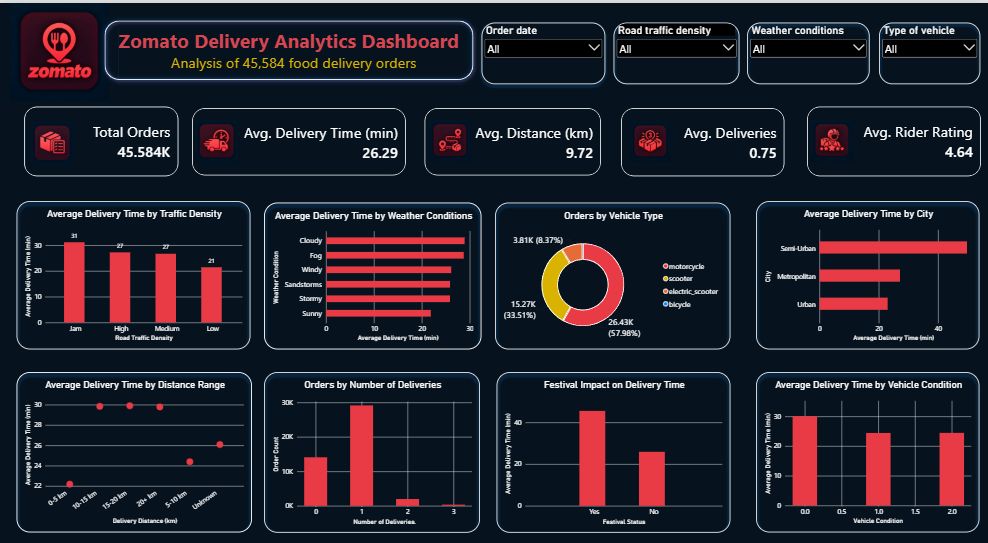

The page's visual inventory and layout, read from the dashboard file:
{"tool":"powerbi","page":{"name":"Page 1","canvas":[2200,1200],"ordinal":0},"visuals":[{"type":"textbox","box":[262.5,52.5,770,126.7],"z":0},{"type":"cardVisual","title":"Total Orders","fields":{"Data":["CountNonNull(public zomato_delivery.id)"]},"box":[53.3,230,343.3,155],"z":1000},{"type":"cardVisual","fields":{"Data":["Avg(public zomato_delivery.time_taken_min)"]},"box":[425,233.3,475,150],"z":2000},{"type":"cardVisual","fields":{"Data":["Avg(public zomato_delivery.distance_km_clean)"]},"box":[941.7,233.3,392,150],"z":3000},{"type":"cardVisual","fields":{"Data":["Avg(public zomato_delivery.multiple_deliveries)"]},"box":[1380,231.7,363.3,151.7],"z":4000},{"type":"cardVisual","fields":{"Data":["Avg(public zomato_delivery.delivery_person_ratings)"]},"box":[1791.7,230,386.7,155],"z":5000},{"type":"clusteredColumnChart","title":"Average Delivery Time by Traffic Density","fields":{"Category":["public zomato_delivery.road_traffic_density"],"Y":["Avg(public zomato_delivery.time_taken_min)"]},"box":[36.7,440,520,330],"z":6000},{"type":"clusteredBarChart","title":"Average Delivery Time by Weather Conditions","fields":{"Category":["public zomato_delivery.weather_conditions"],"Y":["Avg(public zomato_delivery.time_taken_min)"]},"box":[586.7,443.3,483.3,326.7],"z":7000},{"type":"donutChart","title":"Orders by Vehicle Type","fields":{"Category":["public zomato_delivery.type_of_vehicle"],"Y":["CountNonNull(public zomato_delivery.id)"]},"box":[1100,443.3,523.3,326.7],"z":8000},{"type":"scatterChart","title":"Average Delivery Time by Distance Range","fields":{"X":["public zomato_delivery.Distance Band"],"Y":["Avg(public zomato_delivery.time_taken_min)"]},"box":[36.7,820,523.3,356.7],"z":9000},{"type":"clusteredColumnChart","title":"Orders by Number of Deliveries","fields":{"Category":["public zomato_delivery.multiple_deliveries"],"Y":["CountNonNull(public zomato_delivery.id)"]},"box":[587.5,820,480,357.5],"z":10000},{"type":"clusteredColumnChart","title":"Average Delivery Time by Vehicle Condition","fields":{"Category":["public zomato_delivery.vehicle_condition"],"Y":["Avg(public zomato_delivery.time_taken_min)"]},"box":[1680,820,496.7,356.7],"z":11000},{"type":"clusteredBarChart","title":"Average Delivery Time by City","fields":{"Category":["public zomato_delivery.city"],"Y":["Avg(public zomato_delivery.time_taken_min)"]},"box":[1680,440,496.7,330],"z":12000},{"type":"slicer","fields":{"Values":["public zomato_delivery.order_date"]},"box":[1070,42.5,275,137.5],"z":13000},{"type":"slicer","fields":{"Values":["public zomato_delivery.road_traffic_density"]},"box":[1362.5,42.5,280,137.5],"z":14000},{"type":"slicer","fields":{"Values":["public zomato_delivery.weather_conditions"]},"box":[1660,42.5,272.5,137.5],"z":15000},{"type":"slicer","fields":{"Values":["public zomato_delivery.type_of_vehicle"]},"box":[1952.5,42.5,225,137.5],"z":16000},{"type":"clusteredColumnChart","title":"Festival Impact on Delivery Time","fields":{"Category":["public zomato_delivery.festival"],"Y":["Avg(public zomato_delivery.time_taken_min)"]},"box":[1102.5,820,520,357.5],"z":20001},{"type":"image","box":[53.3,263.3,125.7,97.1],"z":20010},{"type":"image","box":[433.3,260,96.7,96.7],"z":20011},{"type":"image","box":[940,258.3,120,93.3],"z":20015},{"type":"image","box":[1386.7,261.7,116.7,90],"z":20016},{"type":"image","box":[1796.7,260,103.3,93.3],"z":20018},{"type":"image","box":[0,0,263.3,218.3],"z":20024},{"type":"shape","title":"Zomato rounded rectangle","box":[222.5,30,837.5,150],"z":20025}]}

Visuals, with their boxes in screenshot pixels (x1, y1, x2, y2), scaled from the page's 2200x1200 canvas onto the 988x543 screenshot:
textbox: x1=118 y1=24 x2=464 y2=81
"Total Orders" cardVisual: x1=24 y1=104 x2=178 y2=174
cardVisual - Avg(public zomato_delivery.time_taken_min): x1=191 y1=106 x2=404 y2=173
cardVisual - Avg(public zomato_delivery.distance_km_clean): x1=423 y1=106 x2=599 y2=173
cardVisual - Avg(public zomato_delivery.multiple_deliveries): x1=620 y1=105 x2=783 y2=173
cardVisual - Avg(public zomato_delivery.delivery_person_ratings): x1=805 y1=104 x2=978 y2=174
"Average Delivery Time by Traffic Density" clusteredColumnChart: x1=16 y1=199 x2=250 y2=348
"Average Delivery Time by Weather Conditions" clusteredBarChart: x1=263 y1=201 x2=481 y2=348
"Orders by Vehicle Type" donutChart: x1=494 y1=201 x2=729 y2=348
"Average Delivery Time by Distance Range" scatterChart: x1=16 y1=371 x2=251 y2=532
"Orders by Number of Deliveries" clusteredColumnChart: x1=264 y1=371 x2=479 y2=533
"Average Delivery Time by Vehicle Condition" clusteredColumnChart: x1=754 y1=371 x2=978 y2=532
"Average Delivery Time by City" clusteredBarChart: x1=754 y1=199 x2=978 y2=348
slicer - public zomato_delivery.order_date: x1=481 y1=19 x2=604 y2=81
slicer - public zomato_delivery.road_traffic_density: x1=612 y1=19 x2=738 y2=81
slicer - public zomato_delivery.weather_conditions: x1=745 y1=19 x2=868 y2=81
slicer - public zomato_delivery.type_of_vehicle: x1=877 y1=19 x2=978 y2=81
"Festival Impact on Delivery Time" clusteredColumnChart: x1=495 y1=371 x2=729 y2=533
image: x1=24 y1=119 x2=80 y2=163
image: x1=195 y1=118 x2=238 y2=161
image: x1=422 y1=117 x2=476 y2=159
image: x1=623 y1=118 x2=675 y2=159
image: x1=807 y1=118 x2=853 y2=160
image: x1=0 y1=0 x2=118 y2=99
"Zomato rounded rectangle" shape: x1=100 y1=14 x2=476 y2=81
